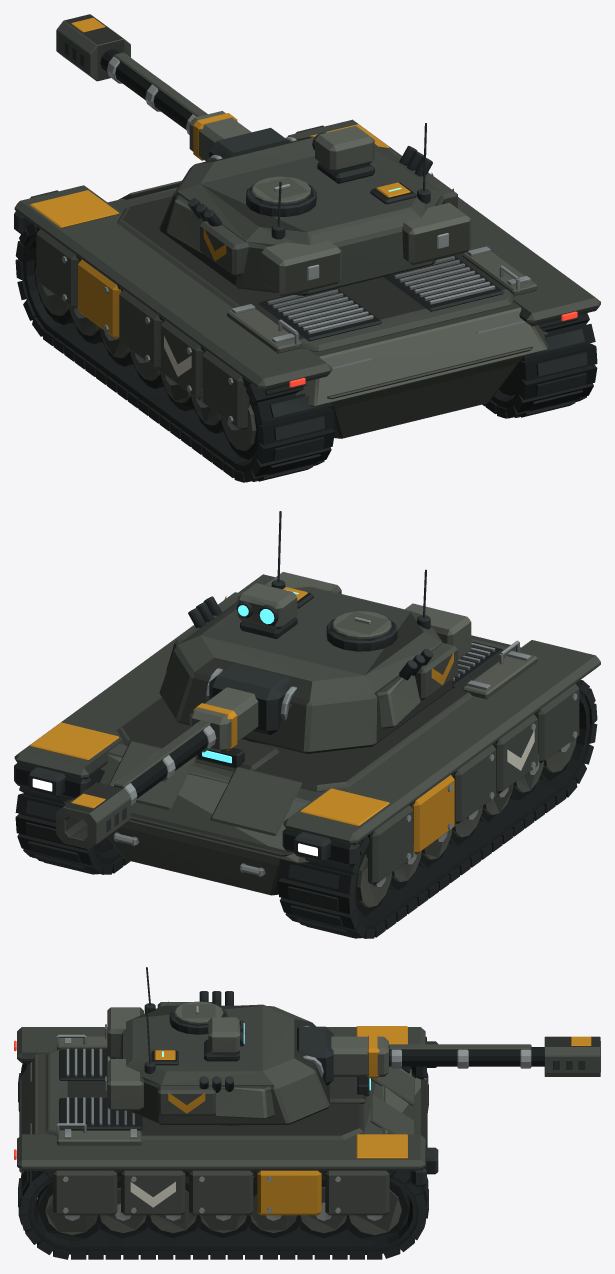
Rendered from Tank.glb.
The picture shows the model from 3 angles, top to bottom: view 1: azimuth 30°, elevation 25°; view 2: azimuth 150°, elevation 25°; view 3: azimuth 270°, elevation 25°; orthographic projection. The views are drawn at different scales.
Visible parts, largest first — view 1: export_Tank_HullMesh, export_Tank_TurretMesh, export_Tank_TrackLeftMesh, export_Tank_BarrelMesh, export_Tank_TrackRightMesh; view 2: export_Tank_HullMesh, export_Tank_TurretMesh, export_Tank_BarrelMesh, export_Tank_TrackLeftMesh, export_Tank_TrackRightMesh; view 3: export_Tank_HullMesh, export_Tank_TurretMesh, export_Tank_BarrelMesh, export_Tank_TrackRightMesh.
Boxes of the visible parts, x1,y1,x2,y2 form: export_Tank_HullMesh: (14, 119, 600, 472); export_Tank_TurretMesh: (159, 126, 471, 296); export_Tank_TrackLeftMesh: (15, 223, 334, 482); export_Tank_BarrelMesh: (56, 14, 296, 161); export_Tank_TrackRightMesh: (482, 313, 597, 418); export_Tank_HullMesh: (14, 574, 600, 928); export_Tank_TurretMesh: (159, 572, 471, 753); export_Tank_BarrelMesh: (56, 664, 296, 849); export_Tank_TrackLeftMesh: (278, 680, 597, 938); export_Tank_TrackRightMesh: (15, 769, 130, 874); export_Tank_HullMesh: (14, 1026, 439, 1254); export_Tank_TurretMesh: (105, 991, 329, 1125); export_Tank_BarrelMesh: (297, 1025, 600, 1085); export_Tank_TrackRightMesh: (18, 1170, 428, 1259).
Size of the model in its own units: 4.38 by 3.2 by 7.85.
